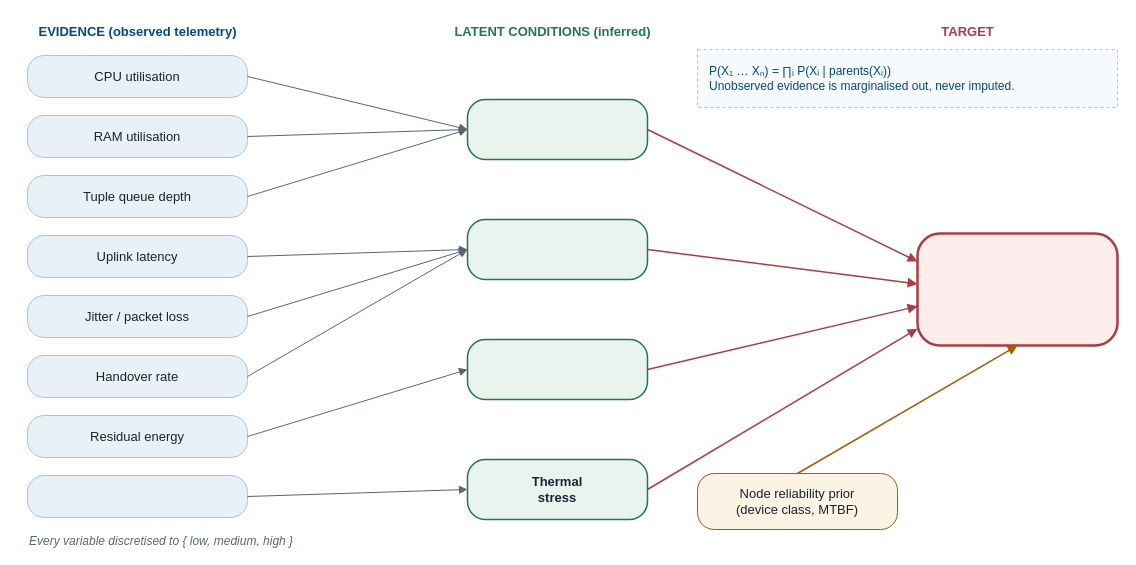
This 1136x565 diagram has some shape labels left out. Here are the shapes that lost their labels. From the top down, the centre of each, then its label:
At point 557,129: "Computational stress".
At point 557,249: "Network degradation".
At point 1017,289: "Node failure within horizon Δt P(F | e)".
At point 557,369: "Energy stress".
At point 137,496: "Sustained utilisation".
